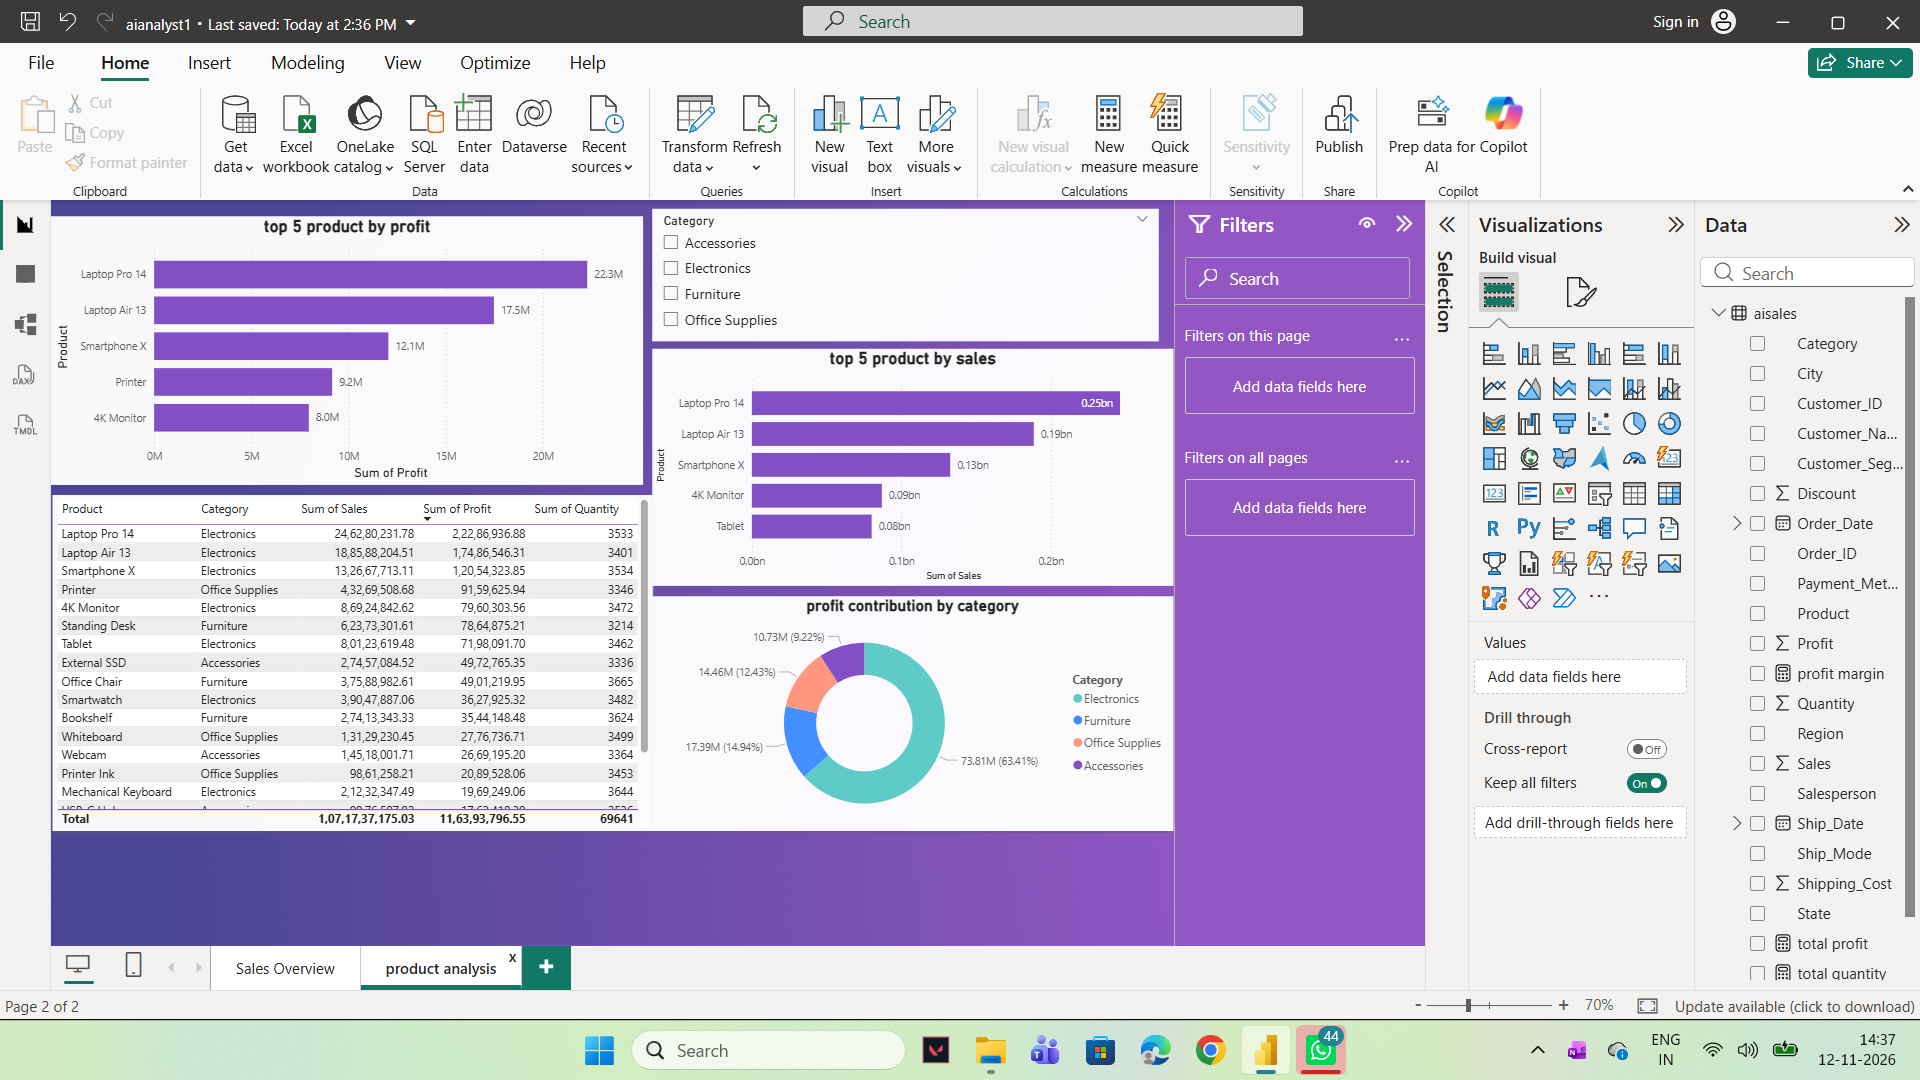

The dashboard page shown, as its layout file describes it:
{"tool":"powerbi","page":{"name":"product analysis","canvas":[1280,720],"ordinal":1},"visuals":[{"type":"clusteredBarChart","title":"top 5 product by profit","fields":{"Category":["aisales.Product"],"Y":["Sum(aisales.Profit)"]},"box":[0,19.2,675.1,306],"z":0},{"type":"clusteredBarChart","title":"top 5 product by sales","fields":{"Category":["aisales.Product"],"Y":["Sum(aisales.Sales)"]},"box":[686.1,170.2,594.2,270.3],"z":1},{"type":"tableEx","fields":{"Values":["aisales.Product","aisales.Category","Sum(aisales.Sales)","Sum(aisales.Profit)","Sum(aisales.Quantity)"]},"box":[1.4,336.2,684.7,384.2],"z":2},{"type":"slicer","fields":{"Values":["aisales.Category"]},"box":[686.1,9.6,577.7,150.9],"z":3},{"type":"donutChart","title":"profit contribution by category","fields":{"Category":["aisales.Category"],"Y":["Sum(aisales.Profit)"]},"box":[686.1,451.5,594.2,269],"z":4}]}

Visuals, with their boxes on the page's 1280x720 design canvas (x1, y1, x2, y2). These are canvas units, not pixel positions in the 1920x1080 screenshot, which may show the page scaled, cropped or inside an application window:
"top 5 product by profit" clusteredBarChart: (0, 19, 675, 325)
"top 5 product by sales" clusteredBarChart: (686, 170, 1280, 440)
tableEx - aisales.Product x aisales.Category: (1, 336, 686, 720)
slicer - aisales.Category: (686, 10, 1264, 160)
"profit contribution by category" donutChart: (686, 452, 1280, 720)
